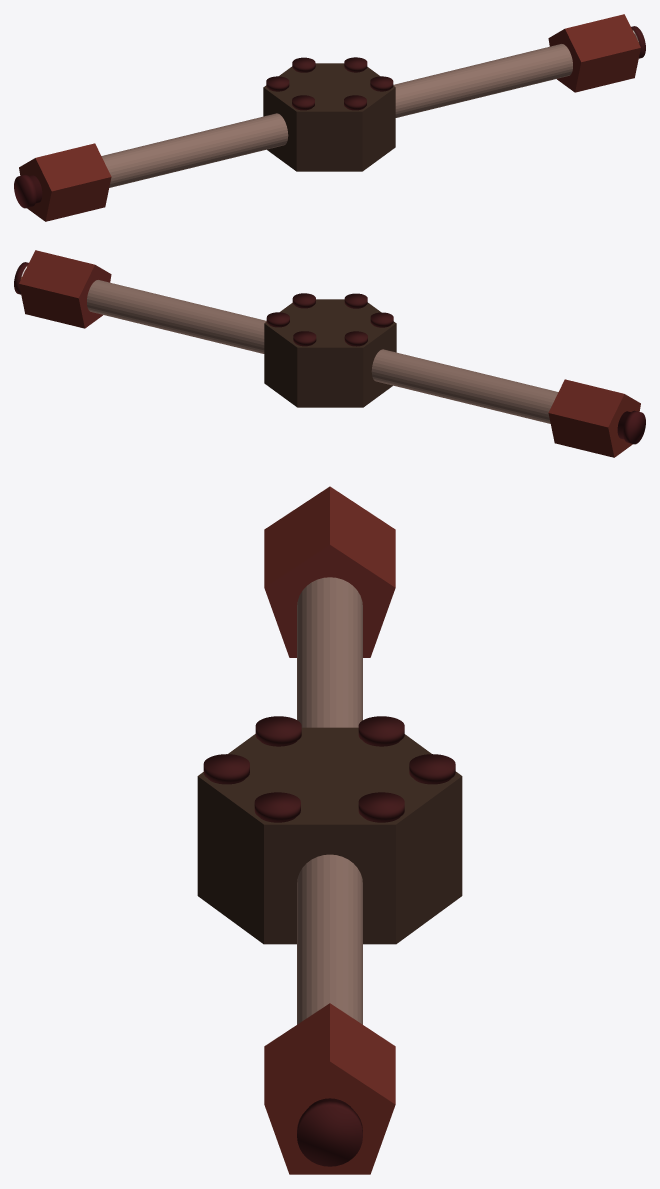
File: pendulo con colores.fbx
3 renders of one model, top to bottom at view 1: azimuth 30°, elevation 25°; view 2: azimuth 150°, elevation 25°; view 3: azimuth 270°, elevation 25°, orthographic. The views are drawn at different scales.
Parts seen in each view (by area): view 1: Cylinder.011; view 2: Cylinder.011; view 3: Cylinder.011.
Boxes of the visible parts, x1,y1,x2,y2 form: Cylinder.011: (14, 14, 645, 221); Cylinder.011: (14, 250, 645, 457); Cylinder.011: (197, 486, 462, 1174).
Bounding box in the file's own units: 1074 × 110 × 200.
Materials: 1 (1 with a texture image).
